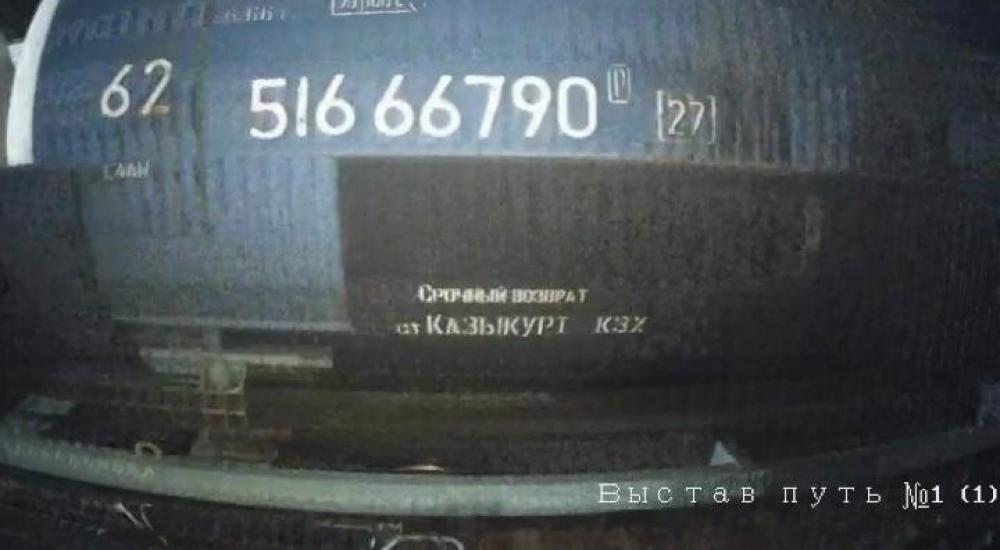Wagon-number: (244, 69, 604, 146)
